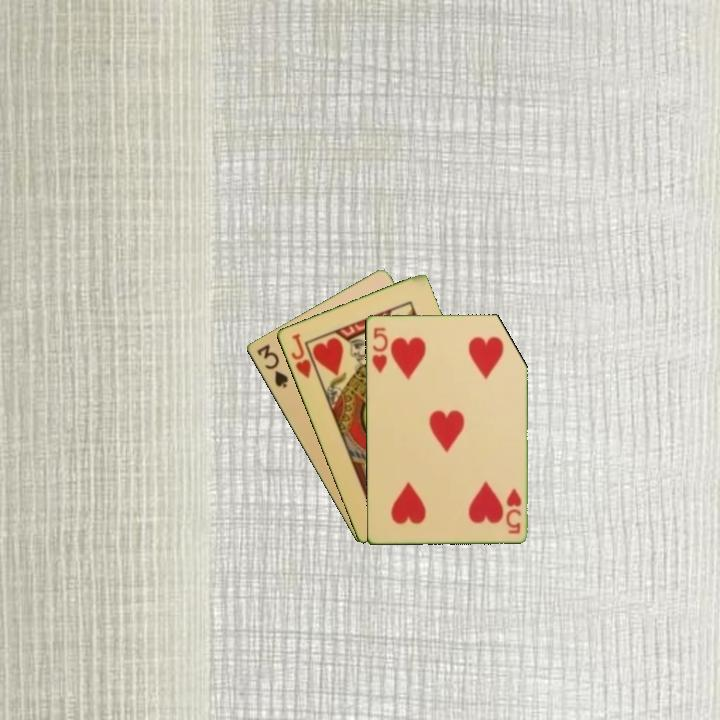3s: (253, 340, 291, 390)
5h: (368, 324, 391, 376), (502, 485, 524, 536)
Jh: (287, 330, 321, 382)
